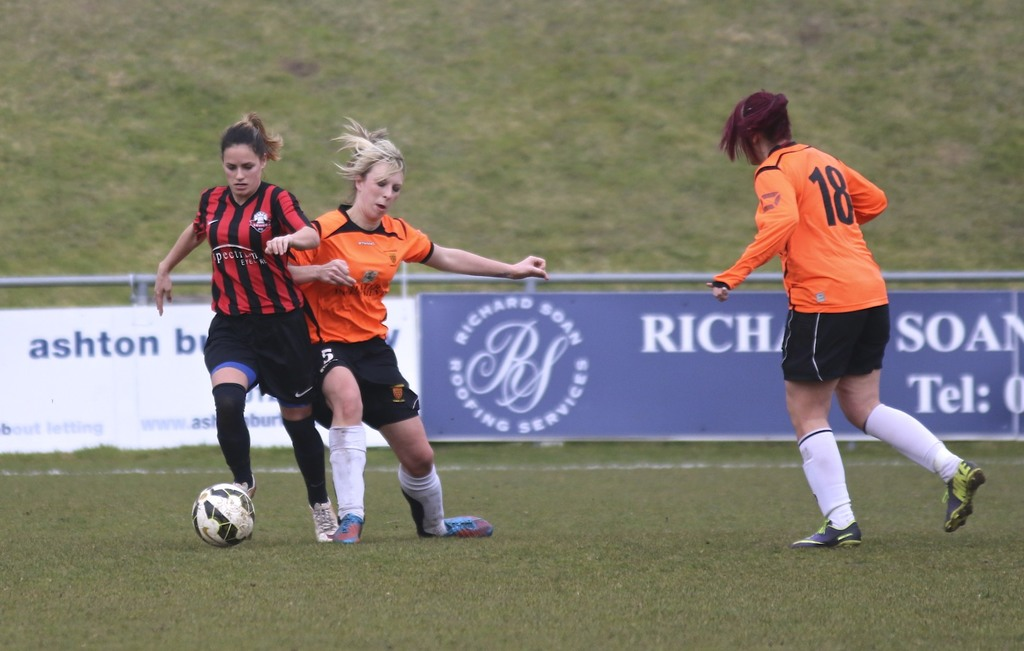Footwear: (940, 469, 990, 536), (792, 518, 863, 552), (421, 517, 499, 538), (309, 502, 340, 544), (330, 514, 362, 545)
